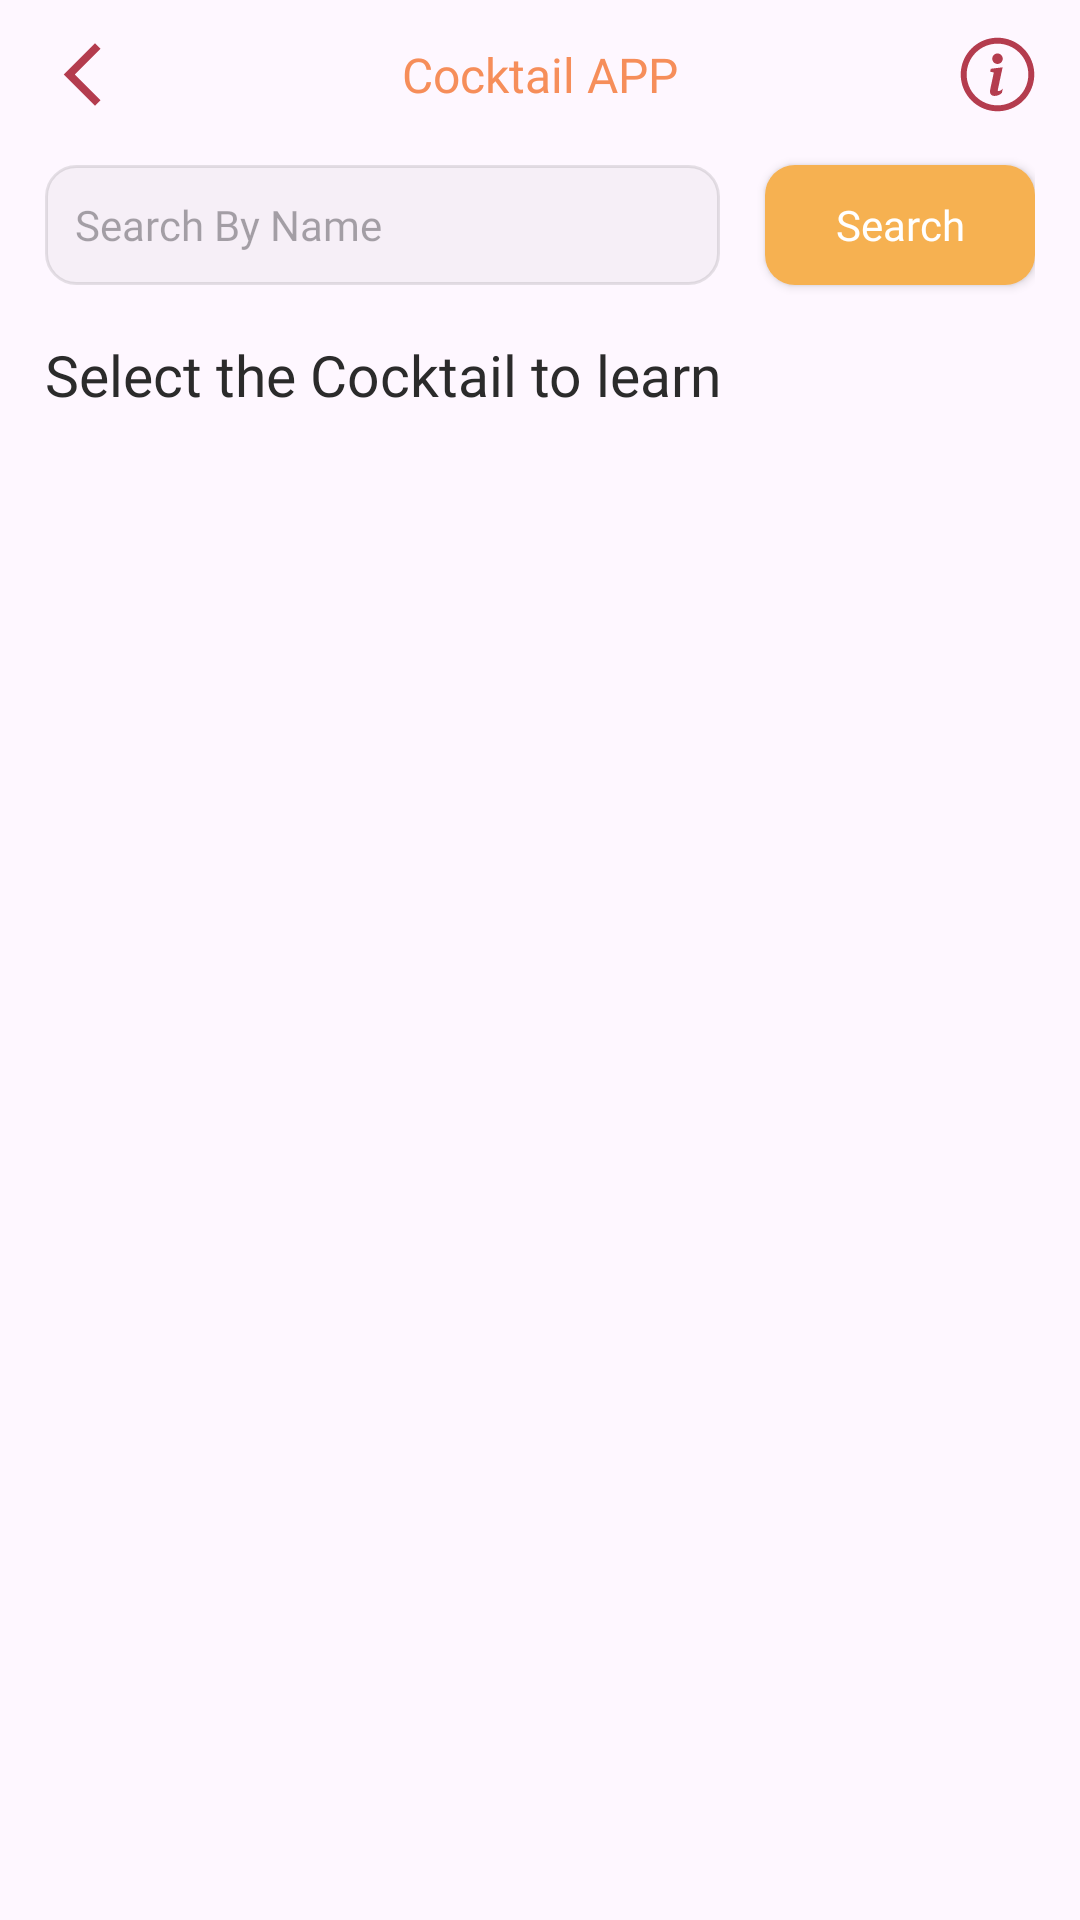

Locate icon controls on the screen. Image size 1080x1920, boxes as bbox(x1, y1, x2, y2).
arrow back: bbox(64, 43, 101, 106)
info: bbox(960, 37, 1035, 112)
